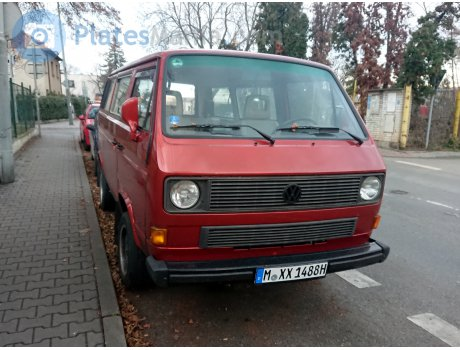License Plates: (262, 262, 330, 275)
